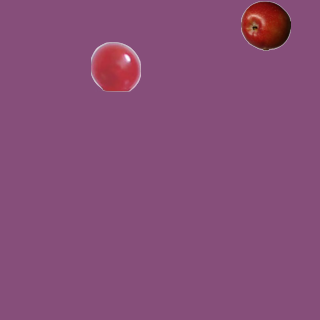Apple Braeburn: (240, 0, 290, 50)
Redcurrant: (90, 41, 140, 91)
